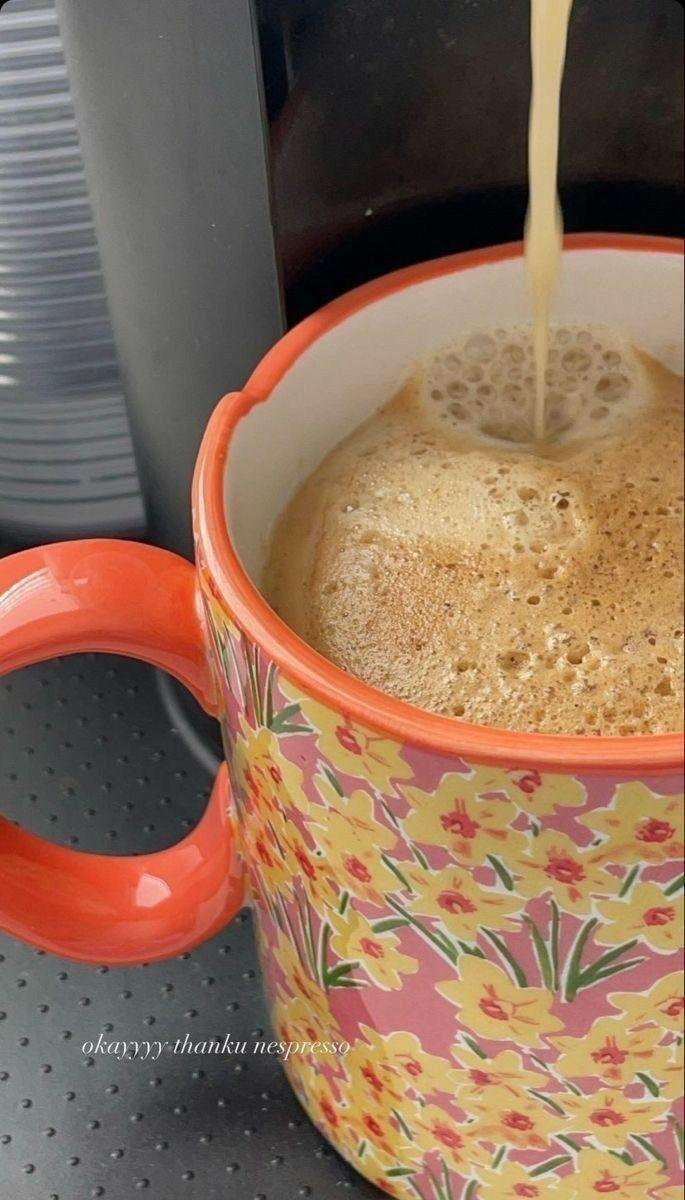cup-handle: (0, 230, 684, 1199)
